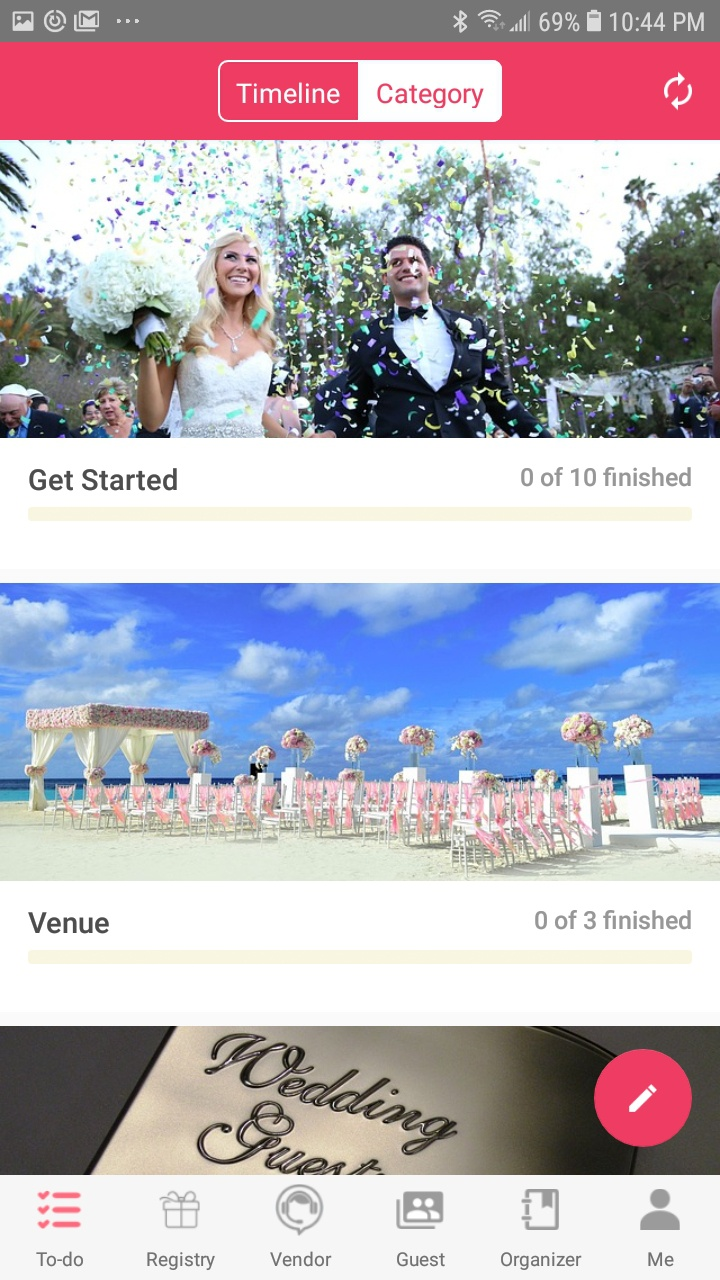Icon: (594, 1049, 693, 1148), (396, 1191, 444, 1230), (38, 1190, 82, 1230), (640, 1189, 681, 1231), (521, 1189, 560, 1231), (160, 1190, 201, 1228), (663, 72, 693, 112)
Image: (1, 583, 720, 881), (1, 141, 720, 439), (0, 1026, 720, 1175), (275, 1184, 325, 1236)
Text: (519, 465, 691, 487), (29, 468, 178, 492), (535, 910, 692, 930), (28, 912, 110, 934), (501, 1251, 582, 1270), (147, 1251, 216, 1271), (270, 1251, 332, 1267), (36, 1251, 85, 1267), (397, 1251, 446, 1267), (647, 1251, 675, 1267)
TextButton: (218, 60, 359, 124), (360, 61, 503, 124)
UpperTaskBar: (1, 1, 720, 43)
